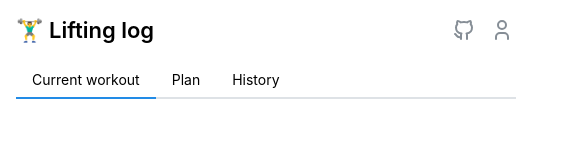
Test: AppShell › when authenticated (userId is set) › user menu dropdown › shows the sign out option
Click the button named "User menu".
click(502, 30)  # box [488,16,516,44]
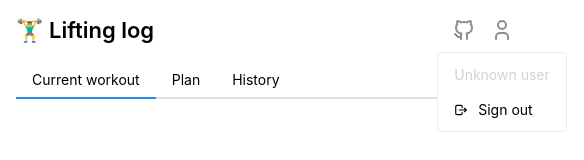
Now the text "Sign out" is shown, box [478,101,533,118]
